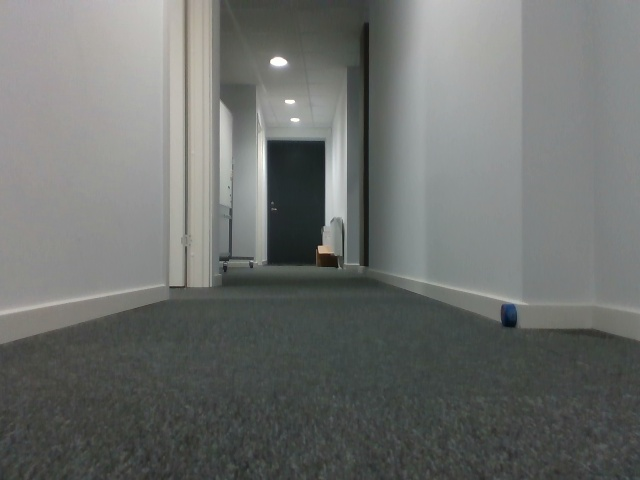alfa: (498, 301, 518, 331)
